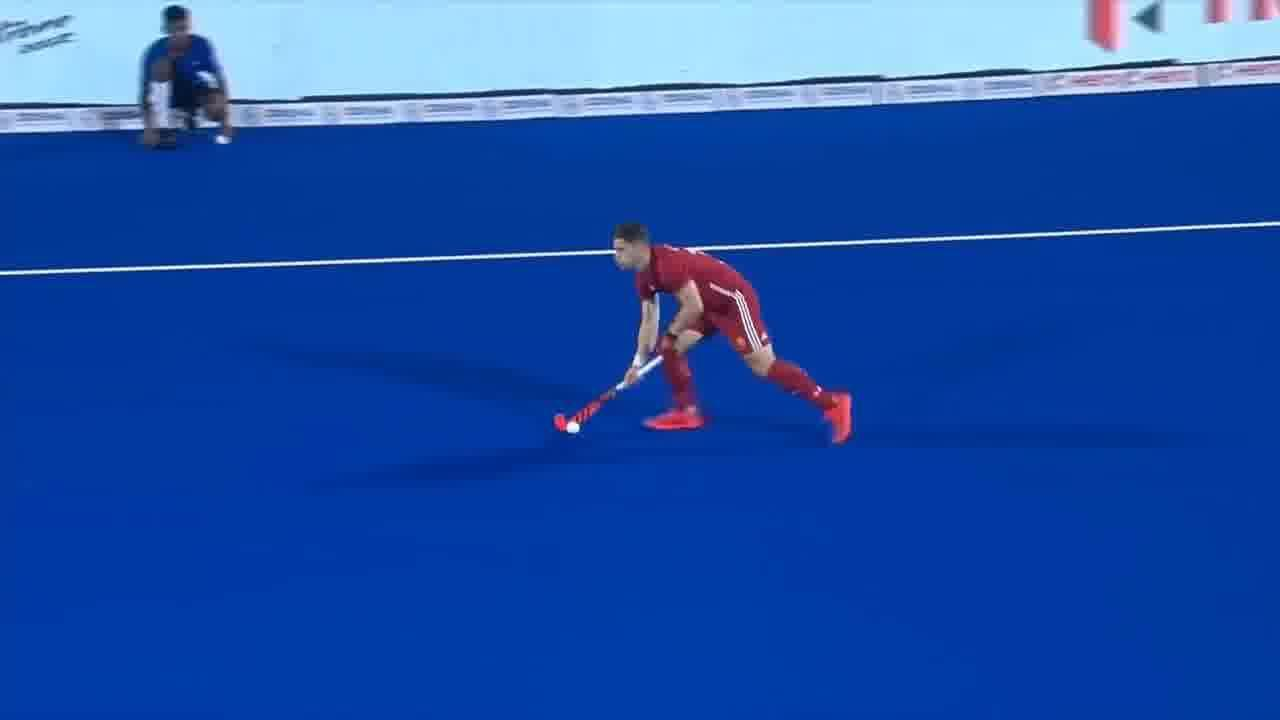ball: (567, 417, 583, 439)
